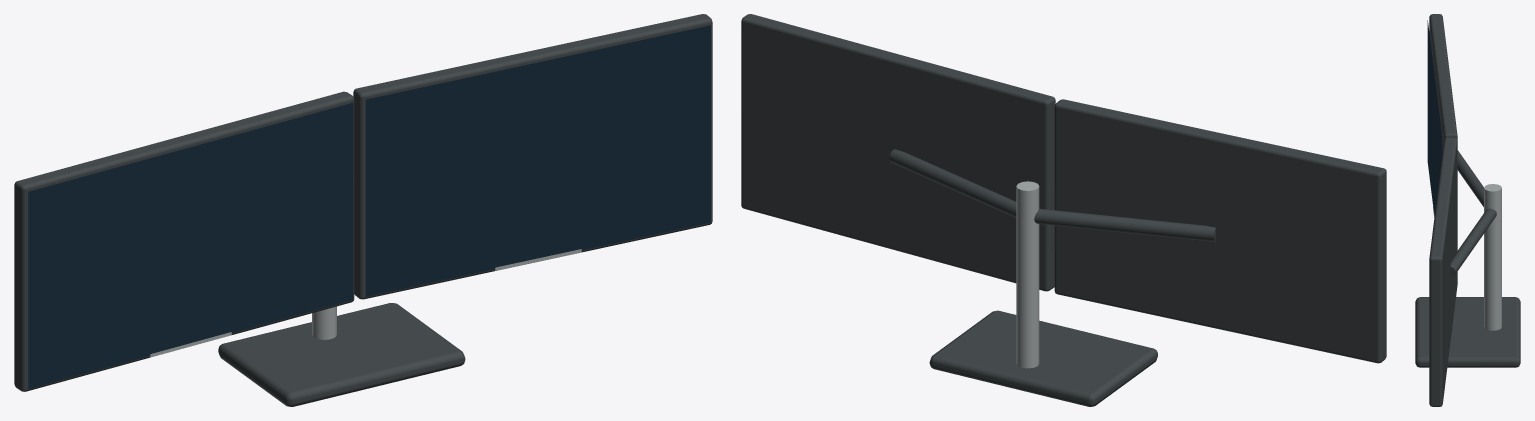
File: mon_dual_landscape-e9380b9dc737.glb
3 renders of one model, left to right at view 1: azimuth 30°, elevation 25°; view 2: azimuth 150°, elevation 25°; view 3: azimuth 270°, elevation 25°, orthographic. The views are drawn at different scales.
Parts seen in each view (by area): view 1: Screen_Surface, surface_graphite, surface_steel; view 2: surface_graphite, surface_steel; view 3: surface_graphite, surface_steel, Screen_Surface.
Boxes of the visible parts, box(x1,y1,x2,y2) form: Screen_Surface: box(28, 25, 710, 389); surface_graphite: box(14, 14, 712, 406); surface_steel: box(149, 249, 581, 357); surface_graphite: box(741, 14, 1386, 406); surface_steel: box(1016, 181, 1039, 368); surface_graphite: box(1415, 14, 1520, 406); surface_steel: box(1433, 184, 1501, 330); Screen_Surface: box(1427, 20, 1442, 215).
Size of the model in its own units: 1.16 by 0.445 by 0.21.
